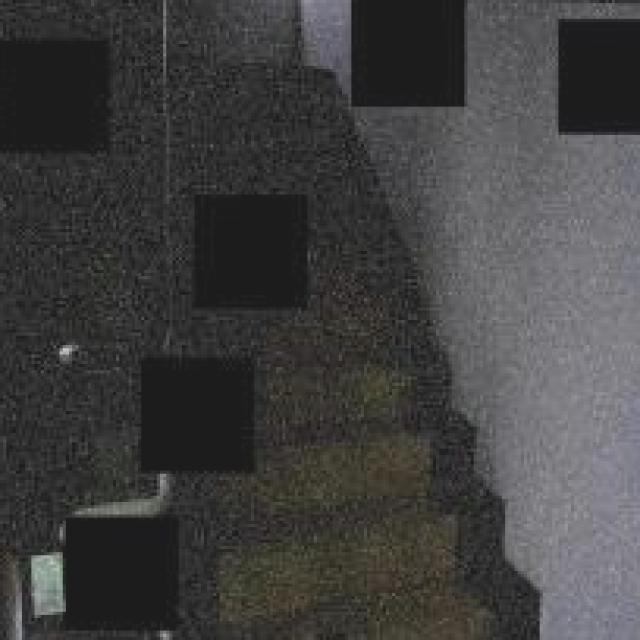upstair: (281, 352, 491, 640)
